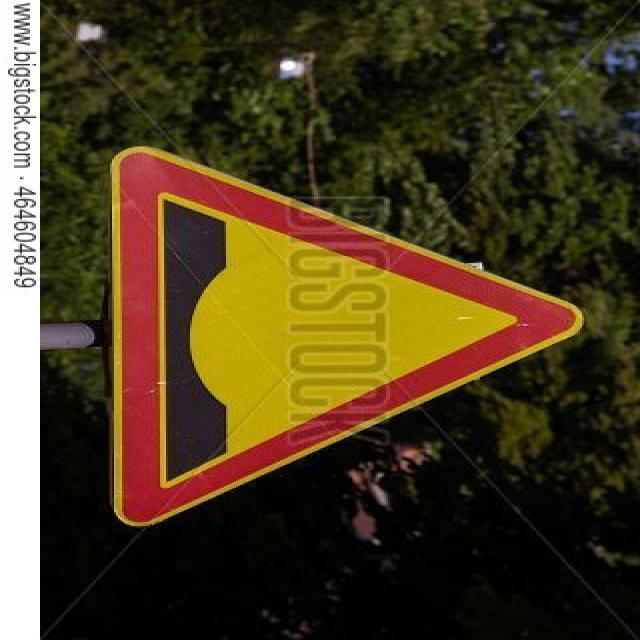Traffic sign: (105, 138, 591, 531)
